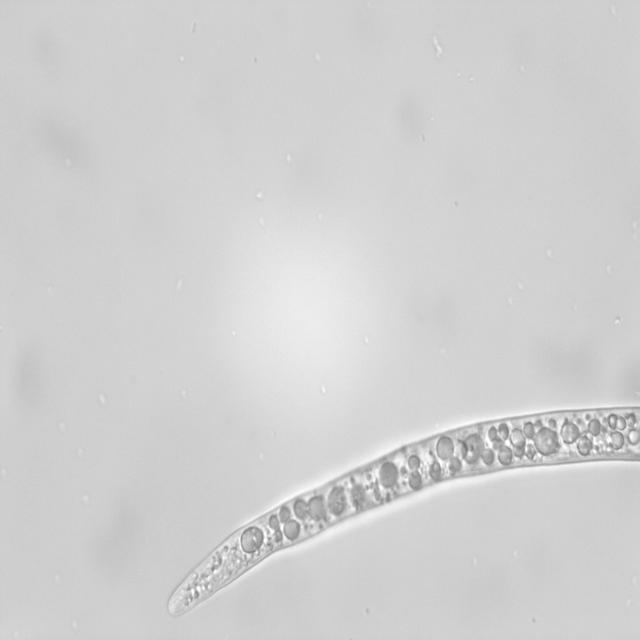Pratylenchus: (165, 398, 640, 621)
